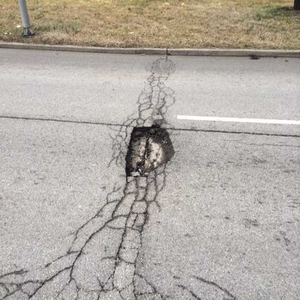pothole: (120, 122, 180, 180)
